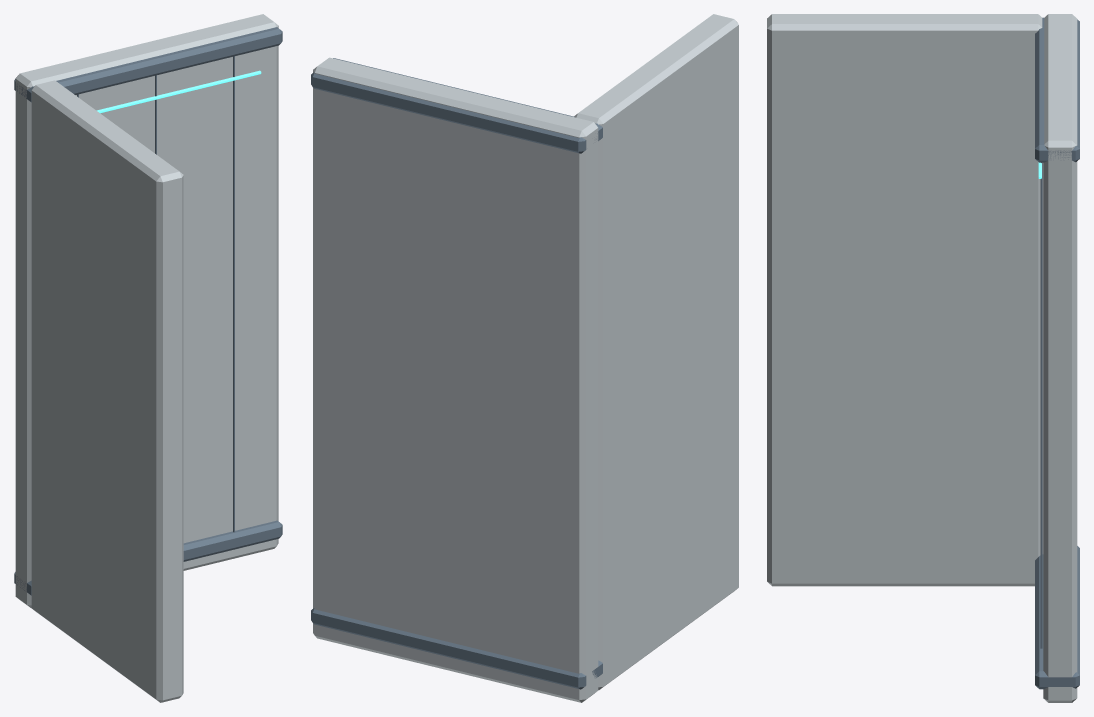
File: architecture_05.glb
3 renders of one model, left to right at view 1: azimuth 30°, elevation 25°; view 2: azimuth 150°, elevation 25°; view 3: azimuth 270°, elevation 25°, orthographic. The views are drawn at different scales.
Parts seen in each view (by area): view 1: CornerReturn, WallPanel, WallTrim (×2), PanelSeam, WallLED; view 2: WallPanel, CornerReturn, WallTrim (×2); view 3: CornerReturn, WallPanel, WallTrim (×2), PanelSeam.
Part boxes in pixels (x1,y1,x2,y2): CornerReturn: [31, 80, 183, 702]; WallPanel: [15, 14, 278, 607]; WallTrim (×2): [14, 27, 282, 595]; PanelSeam: [233, 56, 234, 532]; WallLED: [96, 70, 261, 113]; WallPanel: [313, 57, 598, 702]; CornerReturn: [574, 14, 738, 690]; WallTrim (×2): [311, 58, 602, 689]; CornerReturn: [767, 14, 1043, 586]; WallPanel: [1043, 14, 1077, 702]; WallTrim (×2): [1035, 17, 1079, 689]; PanelSeam: [1040, 162, 1042, 648].
Bounding box in the file's own units: 1.1 × 2.2 × 1.11.
